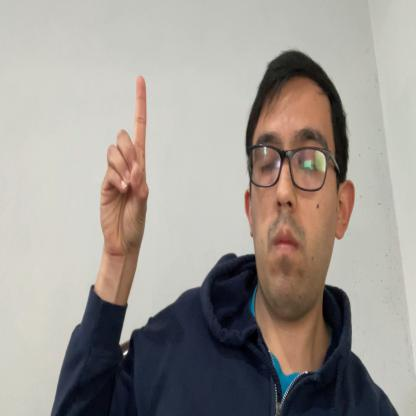D: (100, 76, 150, 259)
